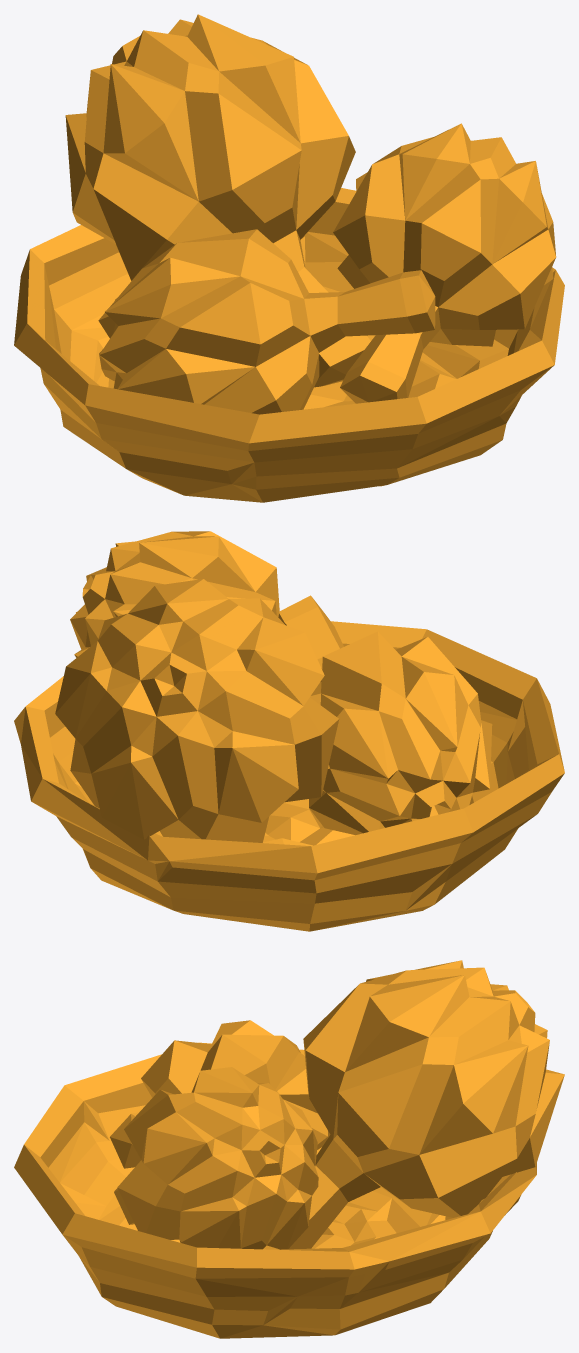
File: SM_Crate_Wicker_Round_Artichoke_Fantasy.fbx
The picture shows the model from 3 angles, top to bottom: view 1: azimuth 30°, elevation 25°; view 2: azimuth 150°, elevation 25°; view 3: azimuth 270°, elevation 25°; orthographic projection. The views are drawn at different scales.
Parts seen in each view (by area): view 1: crate-wicker-round-artichoke-fantasy; view 2: crate-wicker-round-artichoke-fantasy; view 3: crate-wicker-round-artichoke-fantasy.
Boxes of the visible parts, x1,y1,x2,y2 form: crate-wicker-round-artichoke-fantasy: [14, 14, 564, 502]; crate-wicker-round-artichoke-fantasy: [14, 531, 564, 931]; crate-wicker-round-artichoke-fantasy: [14, 960, 564, 1338].
Size of the model in its own units: 0.4757 by 0.307 by 0.5219.
